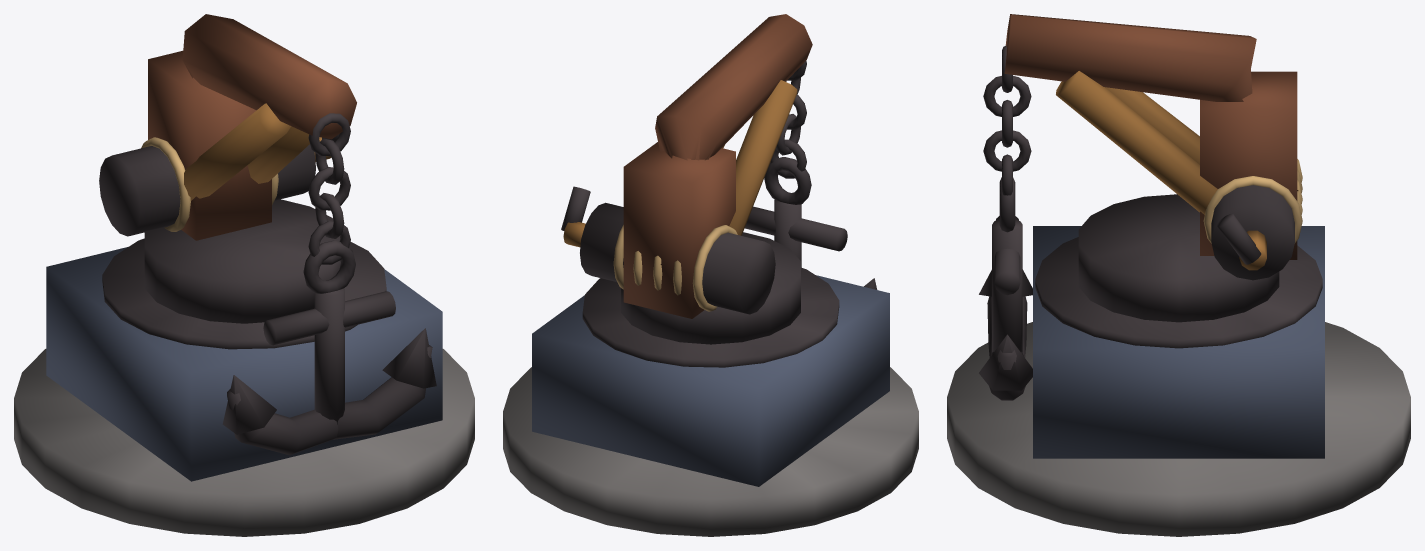
Rendered from torreta-ancla.glb.
3 views of the same model, side by side, from view 1: azimuth 30°, elevation 25°; view 2: azimuth 150°, elevation 25°; view 3: azimuth 270°, elevation 25° (orthographic). The views are drawn at different scales.
Parts seen in each view (by area): view 1: Base, Head, Anchor, Chain; view 2: Base, Head, Anchor, Chain; view 3: Base, Head, Anchor, Chain.
Part boxes in pixels (bbox=[...]): Base: bbox=[14, 238, 474, 536]; Head: bbox=[99, 14, 356, 323]; Anchor: bbox=[222, 240, 436, 455]; Chain: bbox=[308, 113, 350, 264]; Base: bbox=[503, 267, 918, 536]; Head: bbox=[561, 14, 812, 344]; Anchor: bbox=[745, 157, 877, 289]; Chain: bbox=[770, 61, 806, 178]; Base: bbox=[947, 226, 1410, 536]; Head: bbox=[1004, 14, 1302, 322]; Anchor: bbox=[979, 177, 1032, 400]; Chain: bbox=[983, 45, 1031, 195].
Bounding box in the file's own units: 1 × 1.01 × 1.
